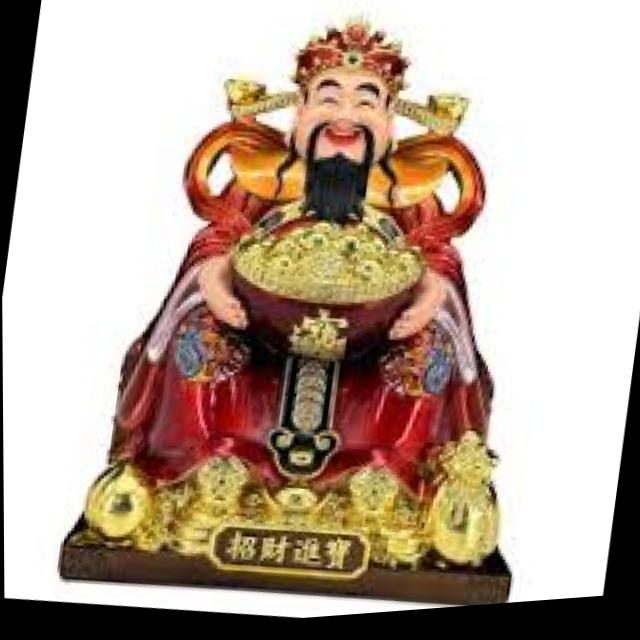Cai shen: (143, 0, 513, 505)
